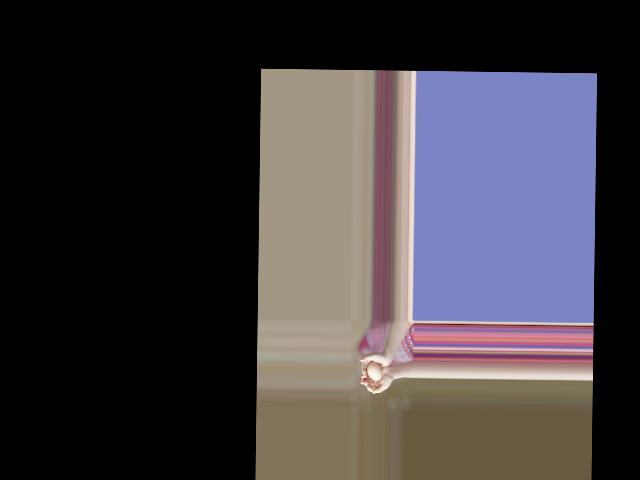egg: (366, 361, 382, 380)
